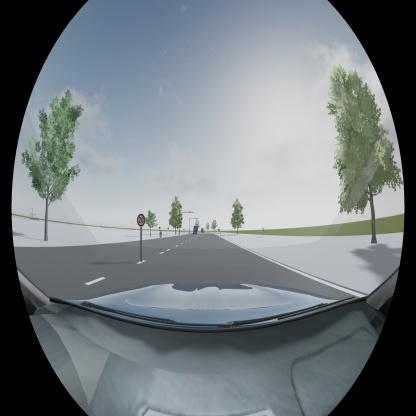Speed Limit 20: (136, 213, 146, 227)
